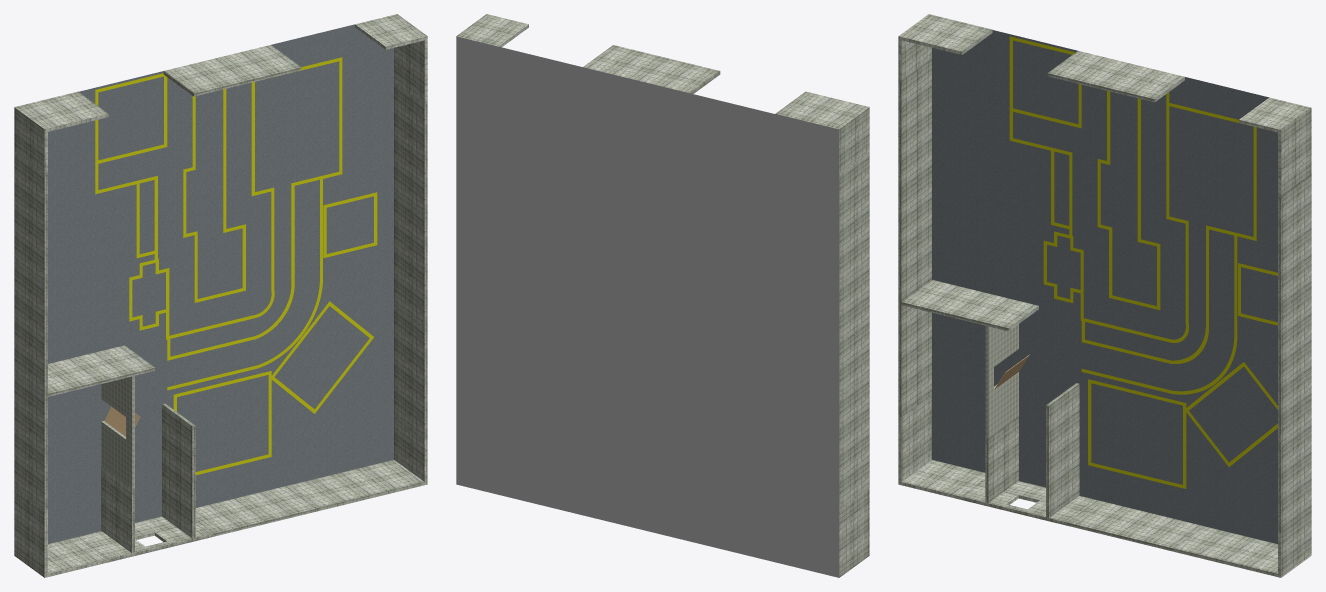
The model's file is floor_sketch.obj.
3 renders of one model, left to right at view 1: azimuth 30°, elevation 25°; view 2: azimuth 150°, elevation 25°; view 3: azimuth 330°, elevation 25°, orthographic.
Visible parts, largest first — view 1: Solid2, Solid5, Solid1:10, Solid5:3, Solid1:1, Solid1, Solid1:4, Solid1:6, Solid1:7, Solid1:11, Solid1:5, Solid5:2 (+6 smaller); view 2: Solid2, Solid1:6, Solid1:7, Solid1:11, Solid1:5, Solid5:2, Solid5:3, Solid5:1; view 3: Solid2, Solid5, Solid5:3, Solid1:10, Solid1:1, Solid1:4, Solid1, Solid1:6, Solid1:11, Solid1:3, Solid1:5, Solid5:1 (+6 smaller).
Part boxes in pixels (x1=…): Solid2: x1=48, y1=24, x2=393, y2=543; Solid5: x1=290, y1=418, x2=427, y2=510; Solid1:10: x1=162, y1=403, x2=195, y2=538; Solid5:3: x1=14, y1=488, x2=106, y2=577; Solid1:1: x1=394, y1=306, x2=427, y2=440; Solid1: x1=394, y1=194, x2=427, y2=328; Solid1:4: x1=394, y1=82, x2=427, y2=215; Solid1:6: x1=14, y1=151, x2=47, y2=285; Solid1:7: x1=14, y1=376, x2=47, y2=509; Solid1:11: x1=14, y1=264, x2=47, y2=397; Solid1:5: x1=163, y1=45, x2=301, y2=96; Solid5:2: x1=14, y1=91, x2=108, y2=173; Solid2: x1=456, y1=36, x2=839, y2=577; Solid1:6: x1=839, y1=151, x2=869, y2=285; Solid1:7: x1=839, y1=376, x2=869, y2=509; Solid1:11: x1=839, y1=264, x2=869, y2=397; Solid1:5: x1=583, y1=45, x2=720, y2=93; Solid5:2: x1=775, y1=91, x2=869, y2=173; Solid5:3: x1=839, y1=488, x2=869, y2=577; Solid5:1: x1=456, y1=14, x2=528, y2=47; Solid2: x1=932, y1=30, x2=1277, y2=543; Solid5: x1=1174, y1=511, x2=1311, y2=577; Solid5:3: x1=898, y1=395, x2=985, y2=499; Solid1:10: x1=1046, y1=383, x2=1079, y2=517; Solid1:1: x1=1278, y1=399, x2=1311, y2=532; Solid1:4: x1=1278, y1=175, x2=1311, y2=308; Solid1: x1=1278, y1=287, x2=1311, y2=420; Solid1:6: x1=898, y1=59, x2=931, y2=192; Solid1:11: x1=898, y1=171, x2=931, y2=305; Solid1:3: x1=901, y1=280, x2=1038, y2=331; Solid1:5: x1=1047, y1=51, x2=1184, y2=102; Solid5:1: x1=1239, y1=97, x2=1311, y2=196.
Size of the model in its own units: 18.16 by 20.32 by 2.5.
